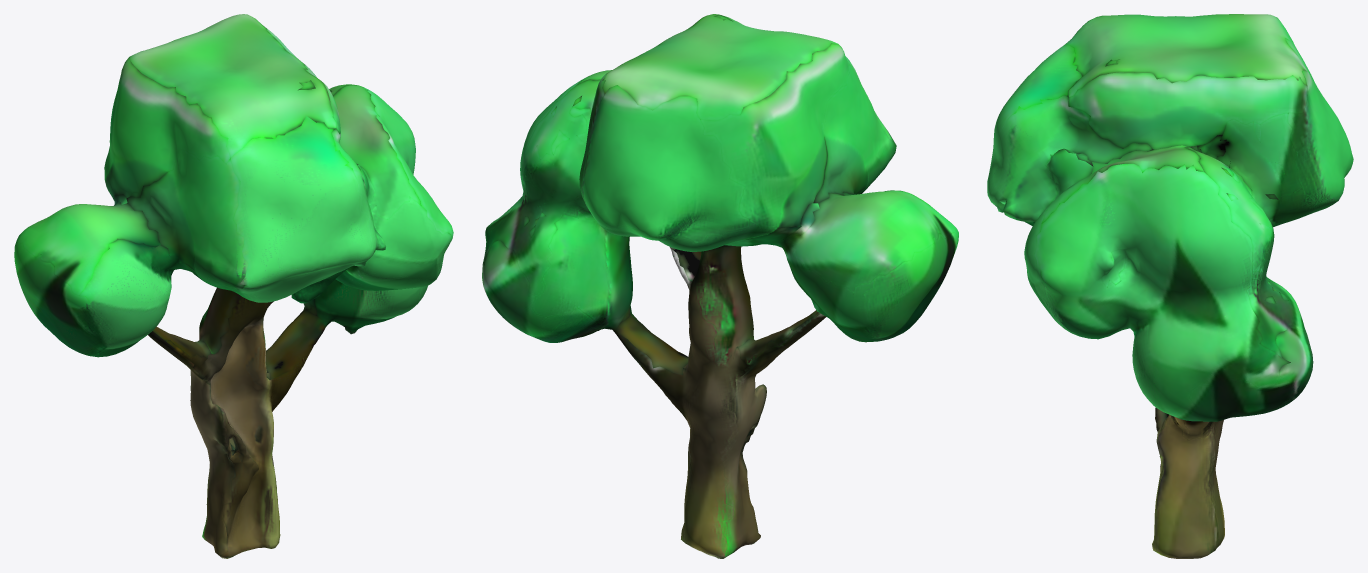
3 renders of one model, left to right at view 1: azimuth 30°, elevation 25°; view 2: azimuth 150°, elevation 25°; view 3: azimuth 270°, elevation 25°, orthographic. The views are drawn at different scales.
Parts seen in each view (by area): view 1: model.obj; view 2: model.obj; view 3: model.obj.
Part boxes in pixels (box(x1,y1,x2,y2)): model.obj: box(14, 14, 453, 558); model.obj: box(482, 14, 958, 558); model.obj: box(987, 14, 1353, 558).
Bounding box in the file's own units: 0.9484 × 1.07 × 0.6998.
1 material, 1 textured.
